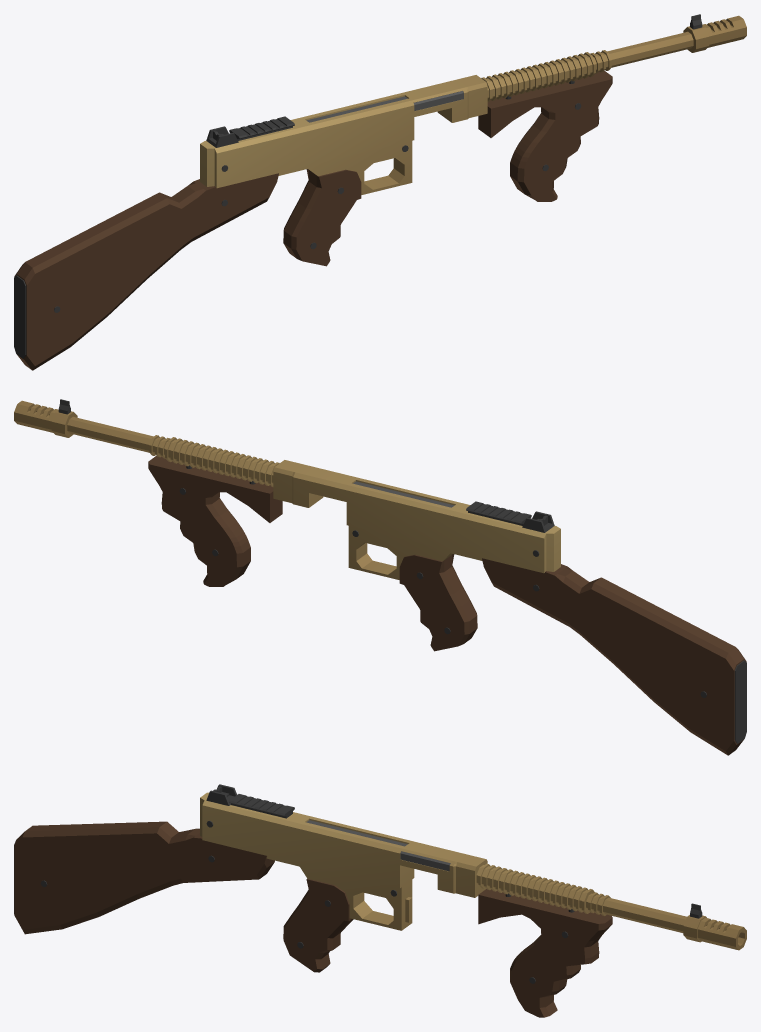
The model's file is LMG4_04.fbx.
The picture shows the model from 3 angles, top to bottom: view 1: azimuth 30°, elevation 25°; view 2: azimuth 150°, elevation 25°; view 3: azimuth 330°, elevation 25°; orthographic projection.
Visible parts, largest first — view 1: LMG4_04; view 2: LMG4_04; view 3: LMG4_04.
Part boxes in pixels (box(x1,y1,x2,y2)): LMG4_04: box(14, 14, 746, 370); LMG4_04: box(14, 399, 746, 755); LMG4_04: box(14, 784, 746, 1017).
Bounding box in the file's own units: 0.9676 × 0.2429 × 0.036.
